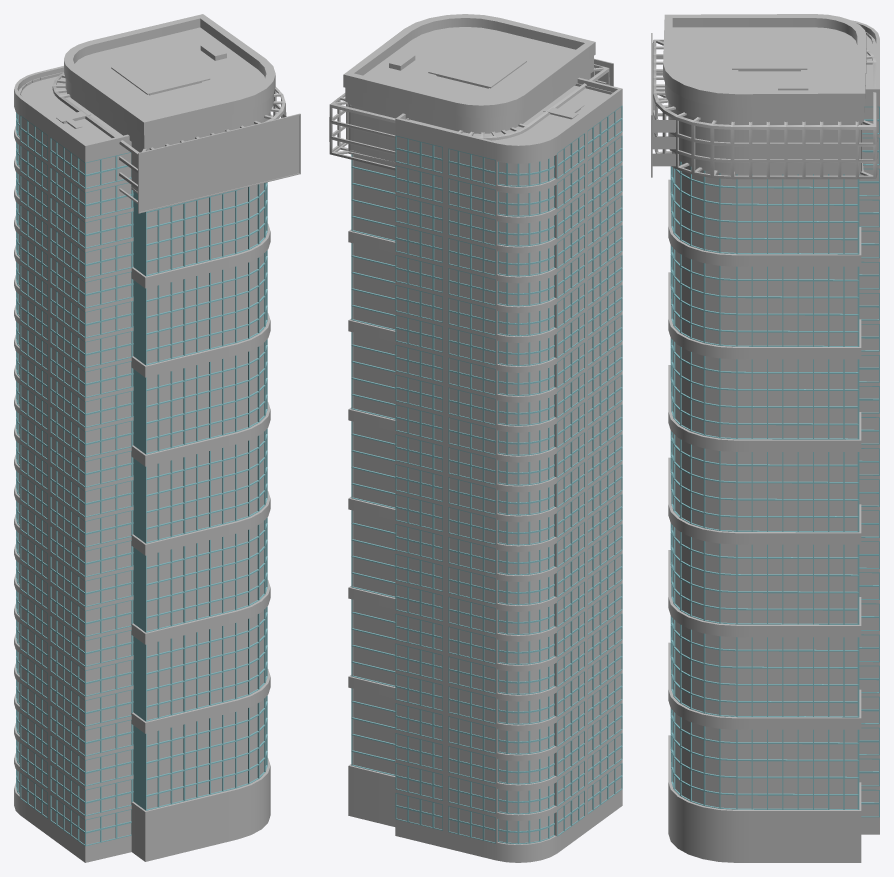
The model's file is SM_bulding_46.fbx.
3 views of the same model, side by side, from view 1: azimuth 30°, elevation 25°; view 2: azimuth 150°, elevation 25°; view 3: azimuth 270°, elevation 25° (orthographic). The views are drawn at different scales.
Visible parts, largest first — view 1: SM_bulding_46; view 2: SM_bulding_46; view 3: SM_bulding_46.
Part boxes in pixels (x1,y1,x2,y2): SM_bulding_46: [14, 14, 300, 862]; SM_bulding_46: [329, 14, 622, 862]; SM_bulding_46: [651, 14, 879, 862].
Size of the model in its own units: 8951 by 30563 by 8220.
